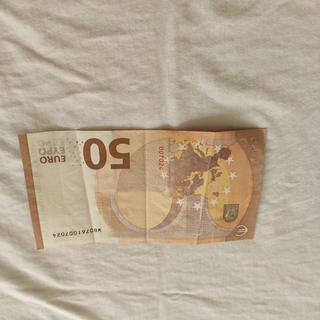50EUROBack: (17, 126, 269, 251)
